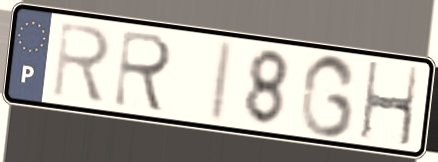8: (242, 46, 293, 129)
G: (296, 52, 360, 141)
H: (358, 59, 422, 150)
I: (203, 36, 238, 126)
R: (110, 26, 176, 116), (49, 18, 114, 105)
